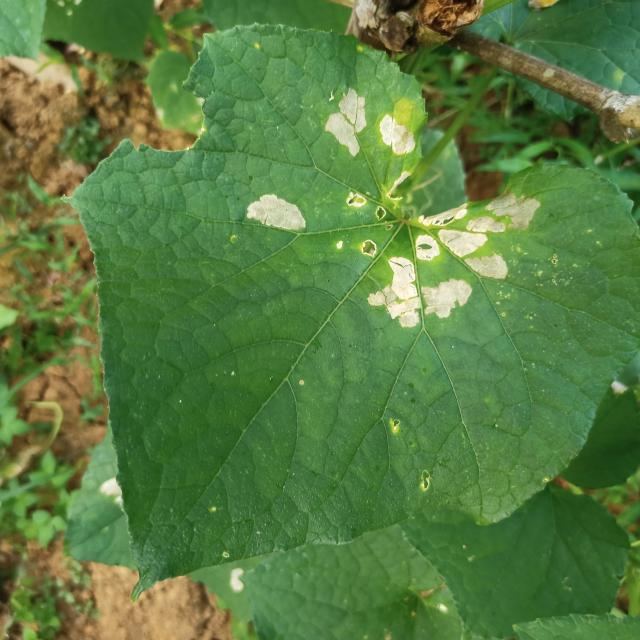disease_cucumber: (361, 188, 542, 329), (322, 86, 368, 158), (245, 191, 310, 237), (376, 113, 416, 158), (344, 188, 389, 224)
